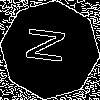N: (25, 25, 75, 67)
